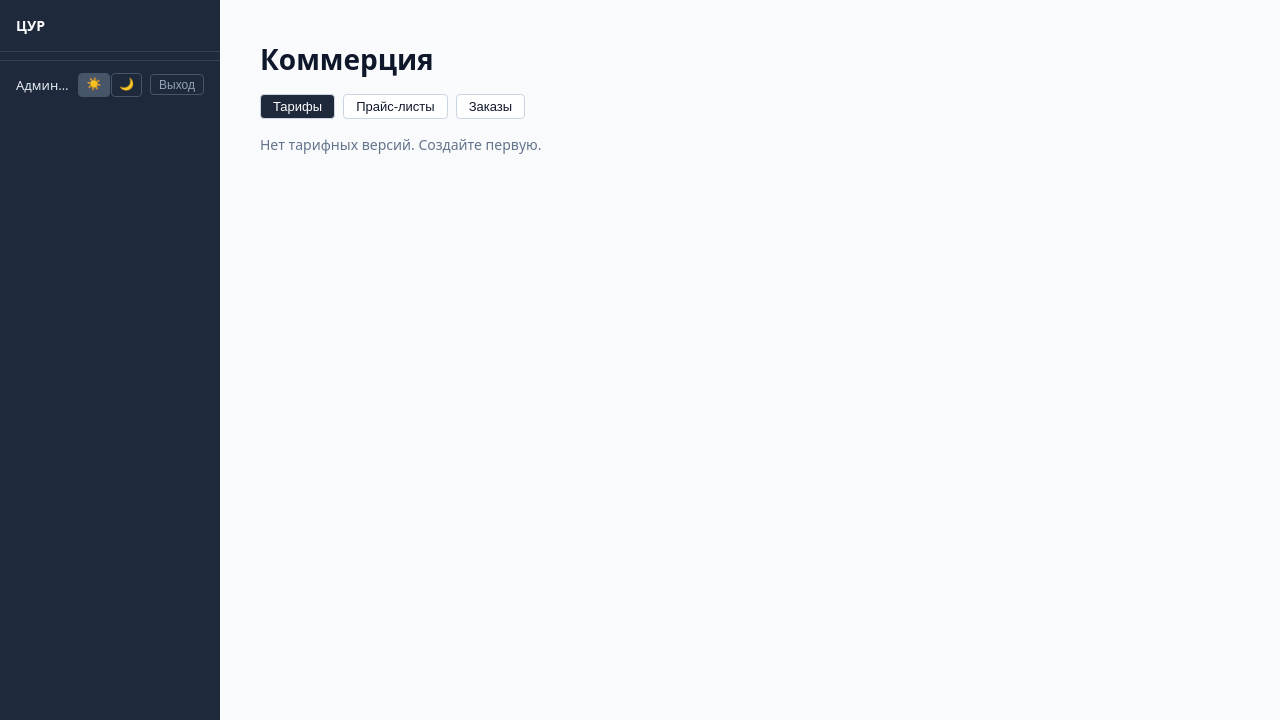
Test: CommerceOrdersTab › shows close button for confirmed order
Check: the element with test id "commerce-tariffs-page" is shown, box left=260, top=40, right=542, bottom=154
Click the button "Заказы": (490, 106) left=456, top=94, right=525, bottom=119
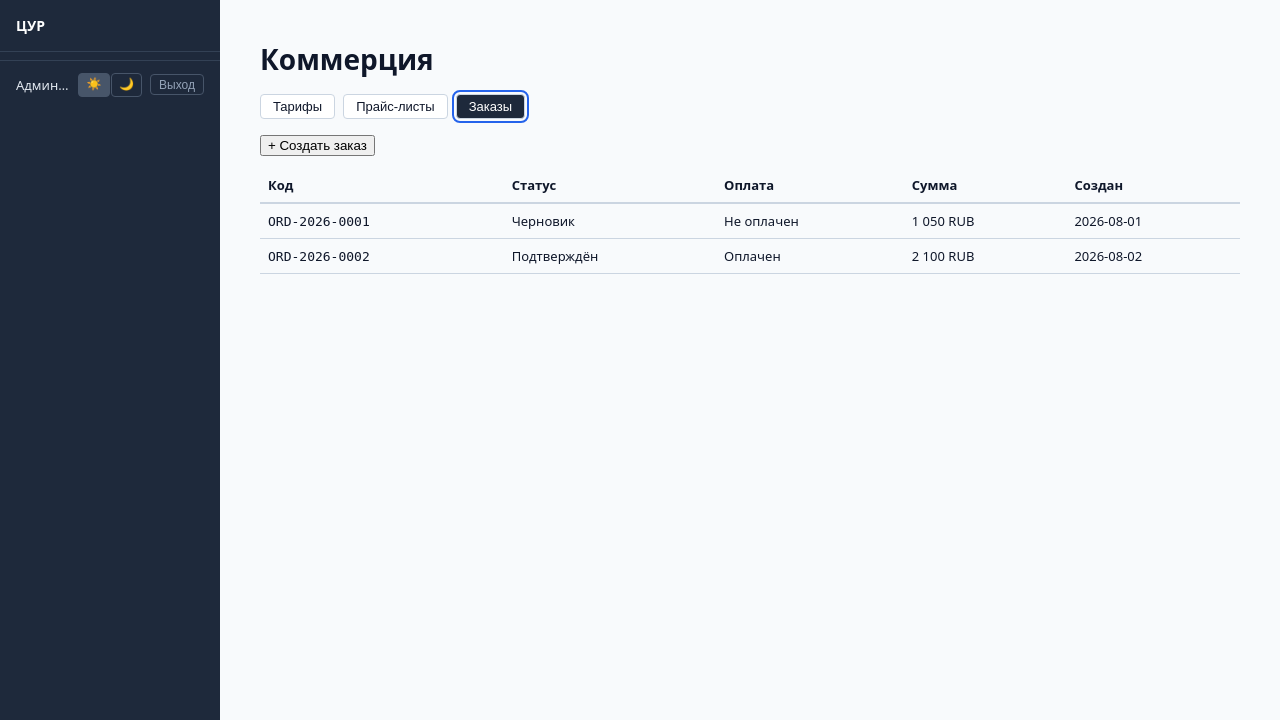
Check: the text "ORD-2026-0001" is shown, box left=268, top=214, right=370, bottom=229
Click the row with test id "commerce-order-row-ord-2": (750, 256) left=260, top=238, right=1240, bottom=274
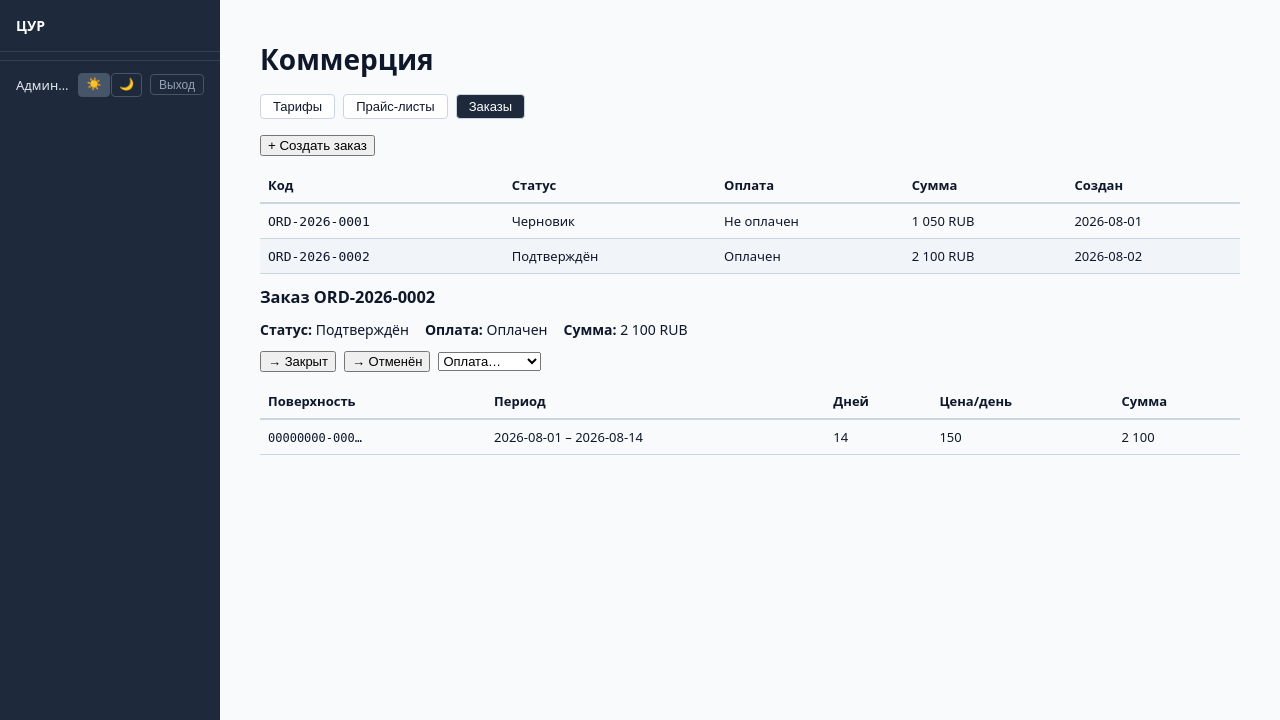
Check: the button with test id "commerce-order-transition-closed" is shown, box left=260, top=351, right=336, bottom=372
Check: the button with test id "commerce-order-transition-cancelled" is shown, box left=344, top=351, right=430, bottom=372
